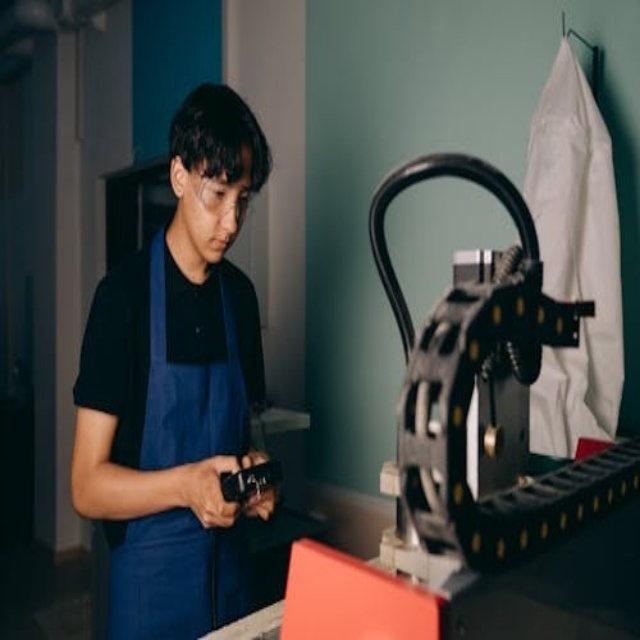Gafas: (190, 171, 254, 225)
Sin_guantes: (182, 444, 246, 540), (239, 450, 279, 516)
Sin_mascara: (200, 229, 229, 265)
